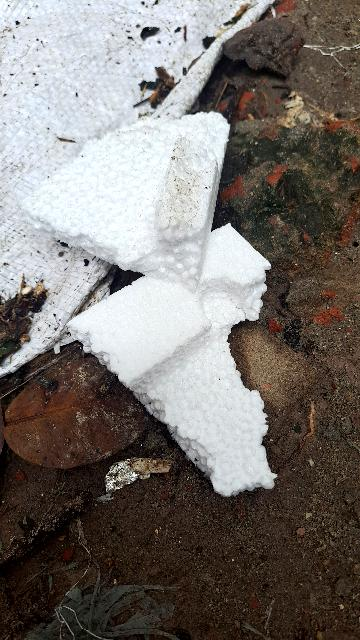cocksheet: (34, 103, 307, 528)
